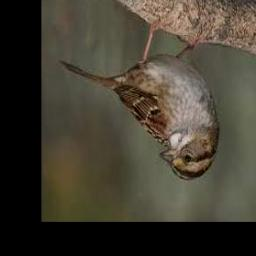Sparrow: (58, 16, 219, 180)
